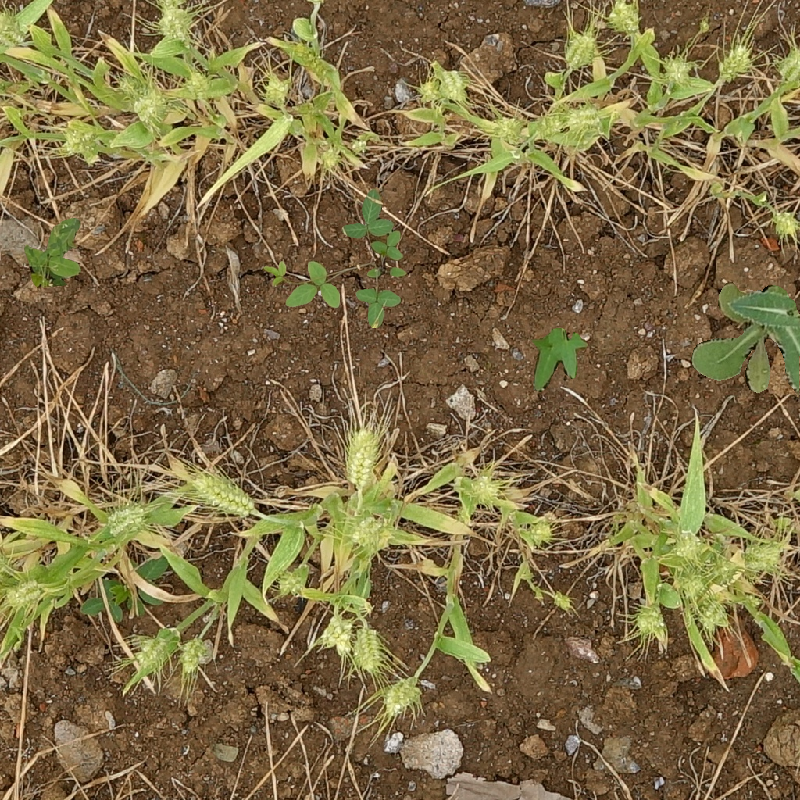spikelet: (188, 470, 258, 518), (341, 422, 382, 490), (134, 624, 181, 674), (348, 511, 394, 553), (694, 582, 732, 632), (599, 731, 640, 776), (103, 499, 148, 539), (381, 674, 422, 717), (715, 40, 754, 85), (352, 621, 384, 674), (632, 594, 668, 640), (60, 125, 102, 164), (741, 537, 785, 574), (319, 612, 354, 657), (157, 1, 194, 43), (3, 576, 48, 610), (667, 525, 708, 562), (563, 29, 599, 71), (461, 471, 503, 507), (489, 113, 530, 147), (178, 634, 213, 673), (707, 551, 745, 586), (564, 103, 604, 135), (1, 7, 29, 50), (131, 90, 166, 124), (521, 515, 556, 549), (671, 565, 707, 598), (606, 1, 641, 34), (659, 53, 692, 87), (438, 65, 468, 102), (768, 205, 800, 238), (115, 71, 151, 99), (274, 567, 305, 598), (262, 73, 291, 105), (776, 44, 800, 82), (315, 142, 341, 170), (390, 76, 413, 104)
weed: (262, 187, 408, 328), (691, 282, 800, 398), (82, 562, 170, 620), (24, 218, 81, 288), (531, 328, 588, 392)
